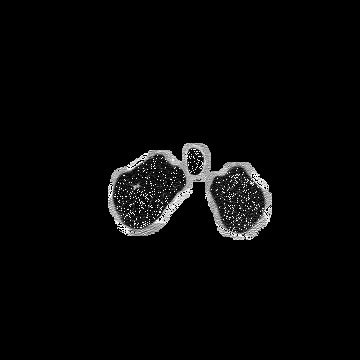PN: (133, 184, 139, 190)
